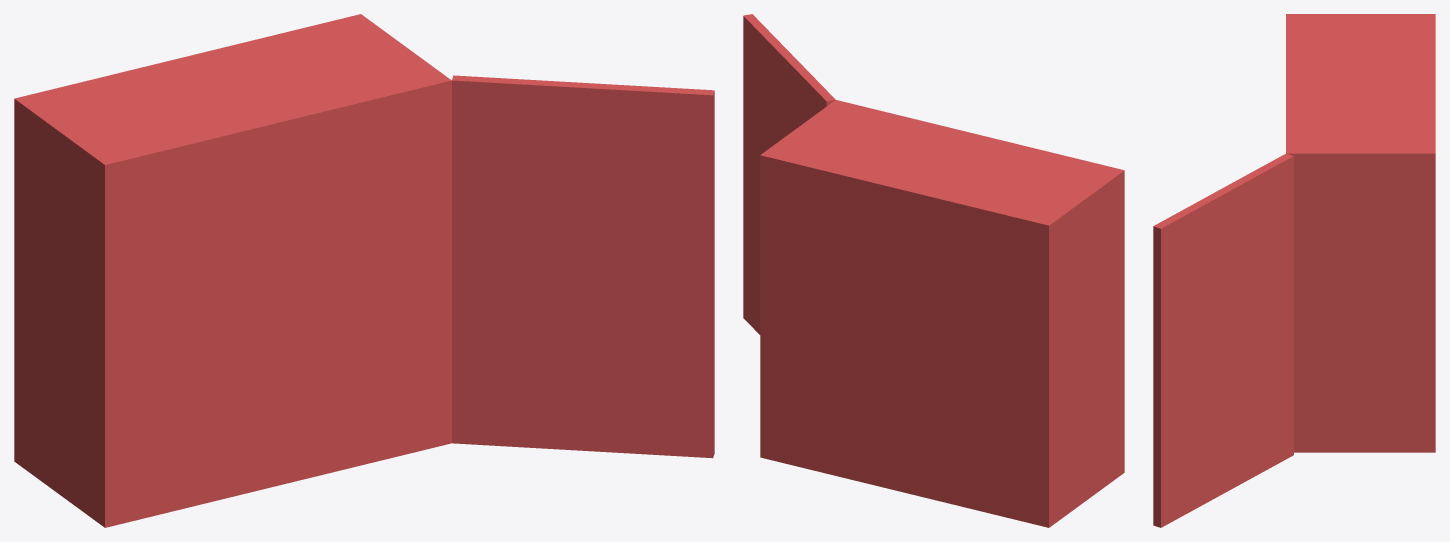
File: mesh_button_COLLISION.fbx
3 renders of one model, left to right at view 1: azimuth 30°, elevation 25°; view 2: azimuth 150°, elevation 25°; view 3: azimuth 270°, elevation 25°, orthographic. The views are drawn at different scales.
Visible parts, largest first — view 1: mesh_button_COLLISION; view 2: mesh_button_COLLISION; view 3: mesh_button_COLLISION.
Part boxes in pixels (left/top/right/bottom): mesh_button_COLLISION: left=14, top=14, right=714, bottom=527; mesh_button_COLLISION: left=743, top=14, right=1124, bottom=527; mesh_button_COLLISION: left=1153, top=14, right=1435, bottom=527.
Bounding box in the file's own units: 1.54 × 1 × 0.856.
